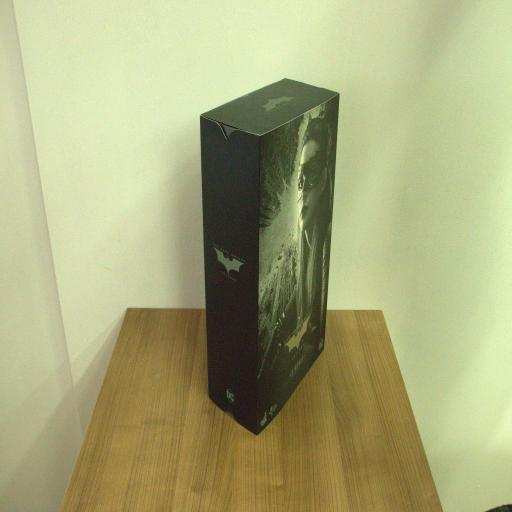catwoman: (200, 78, 340, 435)
